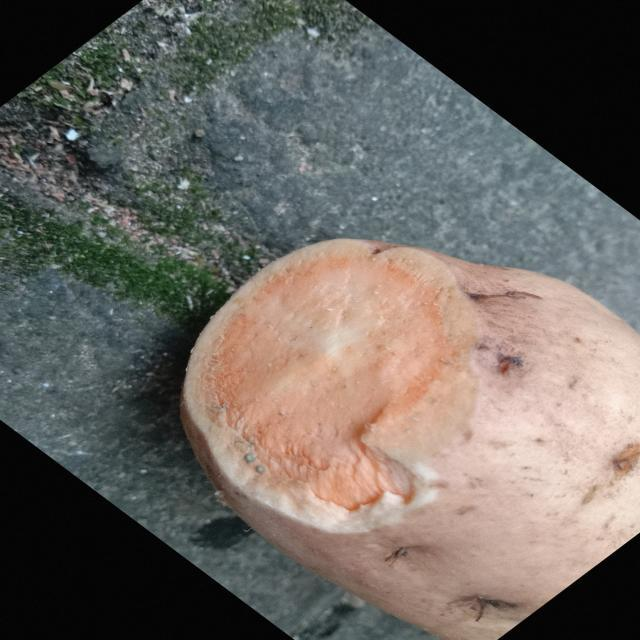Healthy Sweet Potato: (182, 239, 477, 532)
